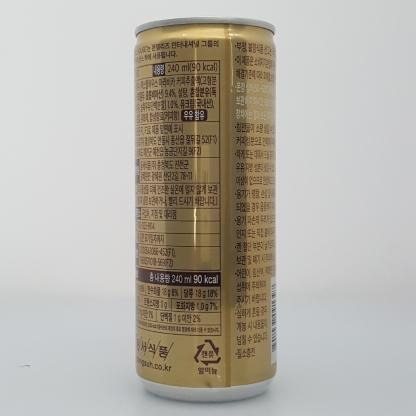-----------------240ML: (133, 15, 277, 403)
